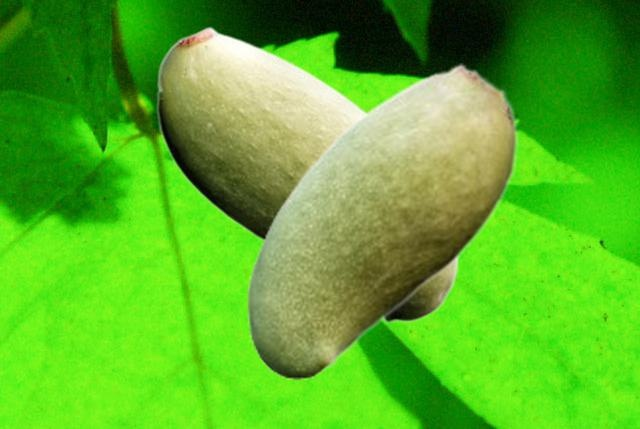green_mango: (156, 25, 458, 323), (246, 63, 517, 378)
